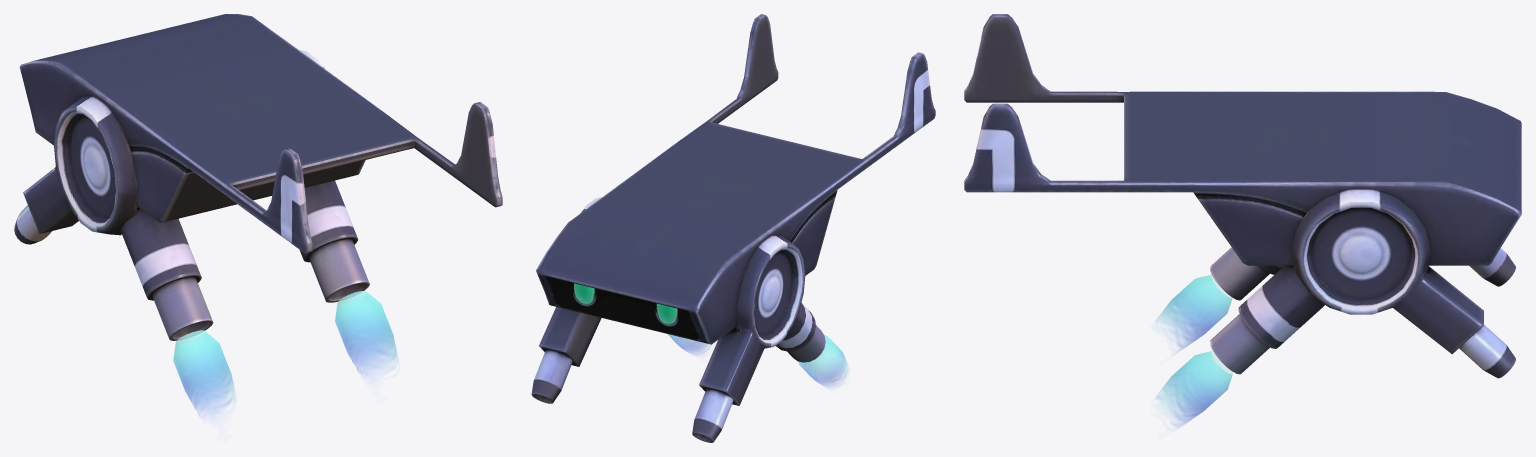
File: drone.glb
The picture shows the model from 3 angles, left to right: view 1: azimuth 30°, elevation 25°; view 2: azimuth 150°, elevation 25°; view 3: azimuth 270°, elevation 25°; orthographic projection. The views are drawn at different scales.
Visible parts, largest first — view 1: Box001, Object002_Material #5_0; view 2: Box001, Object002_Material #5_0; view 3: Box001, Object002_Material #5_0.
Part boxes in pixels (x1,y1,x2,y2): Box001: (14,14,502,340); Object002_Material #5_0: (173,291,398,418); Box001: (531,14,935,442); Object002_Material #5_0: (668,334,848,387); Box001: (964,14,1521,378); Object002_Material #5_0: (1155,274,1232,427).
Bounding box in the file's own units: 1.48 × 2.21 × 3.27.
2 materials, 2 textured.
